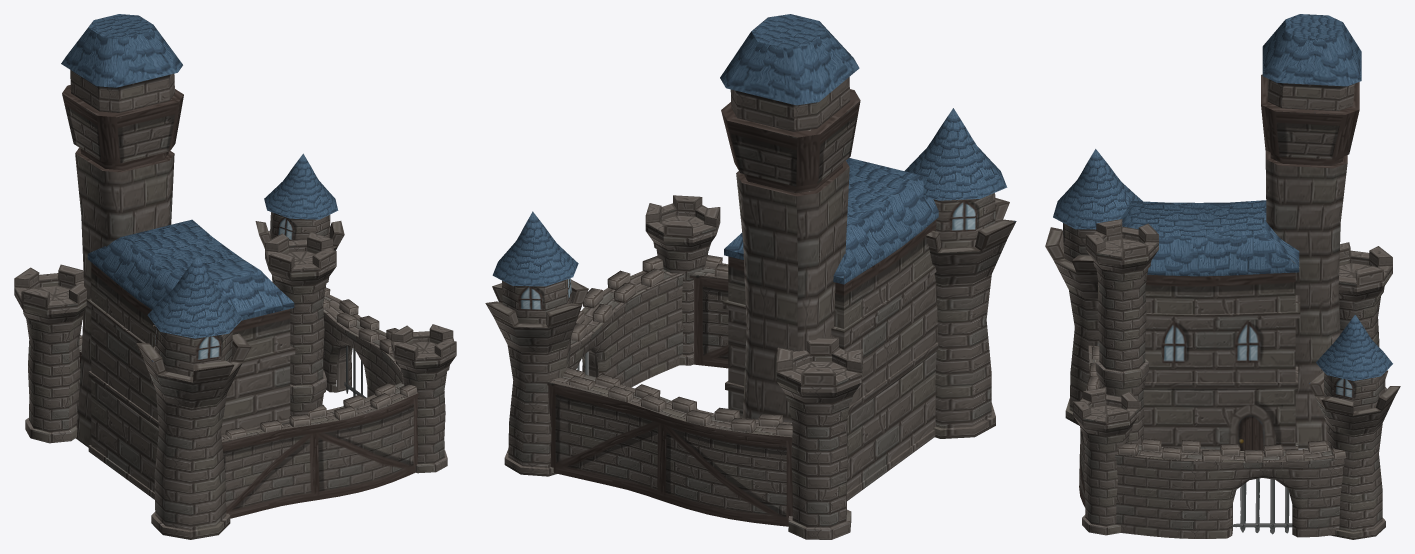
File: Castle_Breakable.fbx
The picture shows the model from 3 angles, left to right: view 1: azimuth 30°, elevation 25°; view 2: azimuth 150°, elevation 25°; view 3: azimuth 270°, elevation 25°; orthographic projection. The views are drawn at different scales.
Visible parts, largest first — view 1: pCube48, pCube51, polySurface109, polySurface57, polySurface62, polySurface108, polySurface107, polySurface104, polySurface105; view 2: pCube51, pCube48, polySurface125, polySurface109, polySurface104, polySurface62, polySurface105, polySurface107, polySurface57; view 3: pCube48, pCube51, polySurface105, polySurface104, polySurface108, polySurface109, polySurface107, polySurface62, pPlane2, polySurface57.
Boxes of the visible parts, box(x1,y1,x2,y2) form: pCube48: box(86, 219, 295, 499); pCube51: box(61, 14, 183, 447); polySurface109: box(136, 255, 251, 539); polySurface57: box(221, 382, 418, 518); polySurface62: box(14, 264, 86, 443); polySurface108: box(265, 232, 336, 415); polySurface107: box(391, 324, 456, 473); polySurface104: box(255, 153, 344, 285); polySurface105: box(323, 294, 403, 397); pCube51: box(720, 14, 860, 422); pCube48: box(722, 158, 938, 500); polySurface125: box(547, 367, 792, 526); polySurface109: box(904, 108, 1016, 438); polySurface104: box(485, 211, 588, 476); polySurface62: box(776, 337, 862, 539); polySurface105: box(569, 269, 684, 387); polySurface107: box(645, 195, 720, 365); polySurface57: box(689, 263, 728, 368); pCube48: box(1098, 200, 1300, 450); pCube51: box(1261, 14, 1361, 448); polySurface105: box(1114, 444, 1344, 538); polySurface104: box(1309, 314, 1400, 539); polySurface108: box(1085, 219, 1158, 444); polySurface109: box(1045, 149, 1142, 425); polySurface107: box(1072, 387, 1139, 535); polySurface62: box(1338, 242, 1392, 346); pPlane2: box(1232, 478, 1292, 534); polySurface57: box(1079, 345, 1100, 507).
Bounding box in the file's own units: 13.44 × 16.48 × 12.94.
